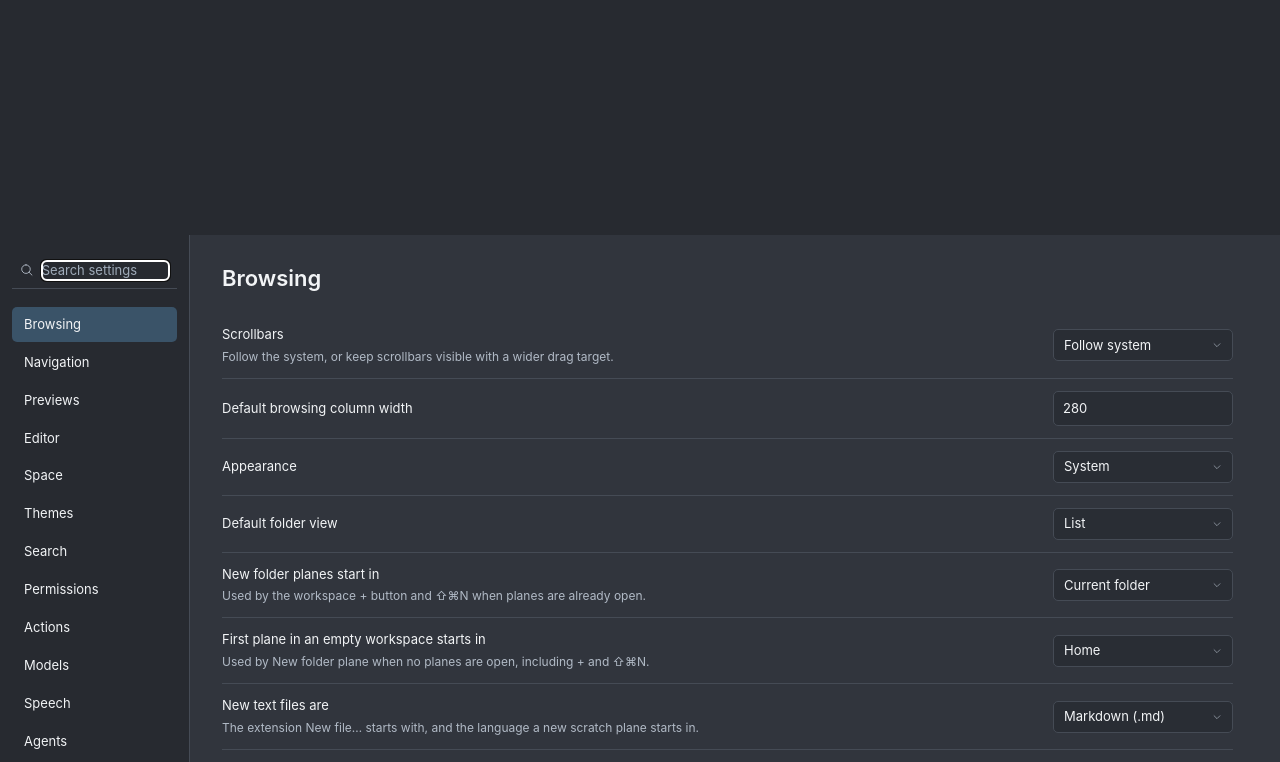
Test: says a night that begins as it ends keeps pages light
Expected: the heading "Browsing" is shown, [222,265,321,291]
Click the button "Previews".
click(94, 400)  # box [12,383,177,418]
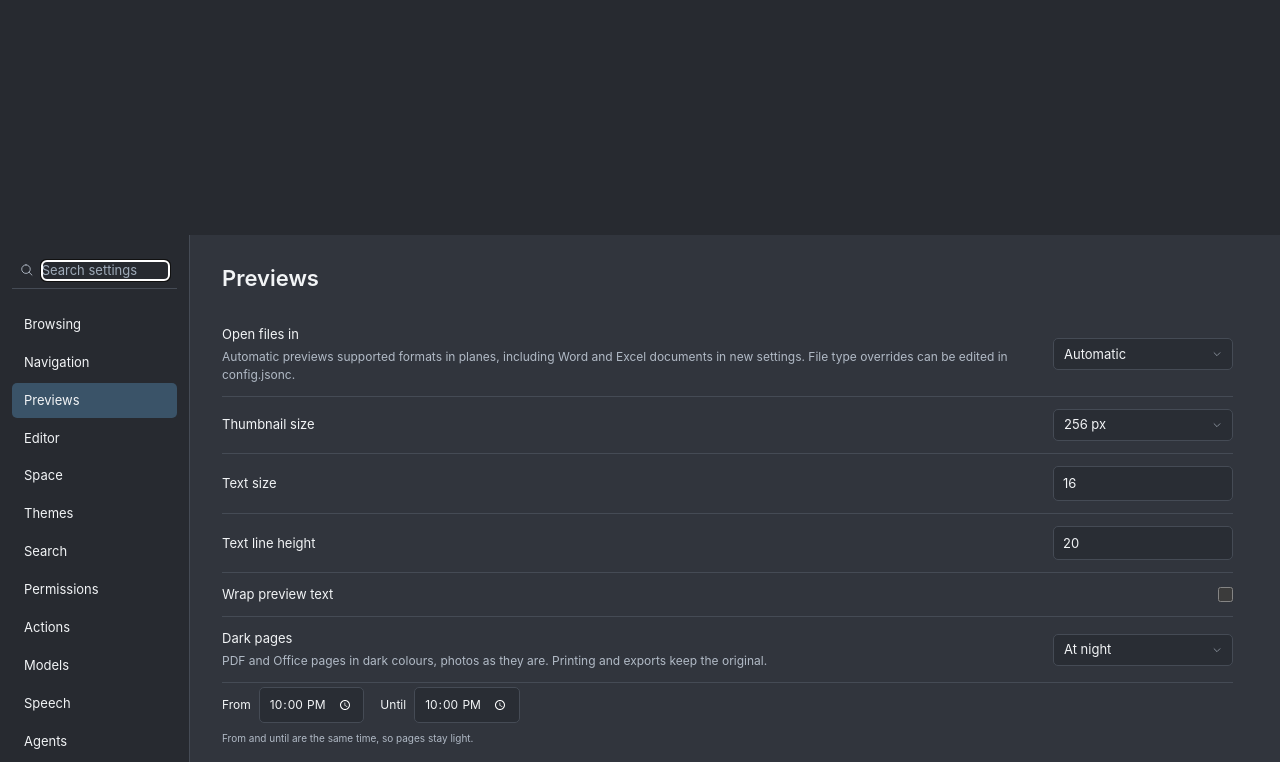
Expected: the heading reads "Previews", [222,265,319,291]
Expected: the message "From and until are the same time, so pages stay light." is shown, [222,732,474,744]
